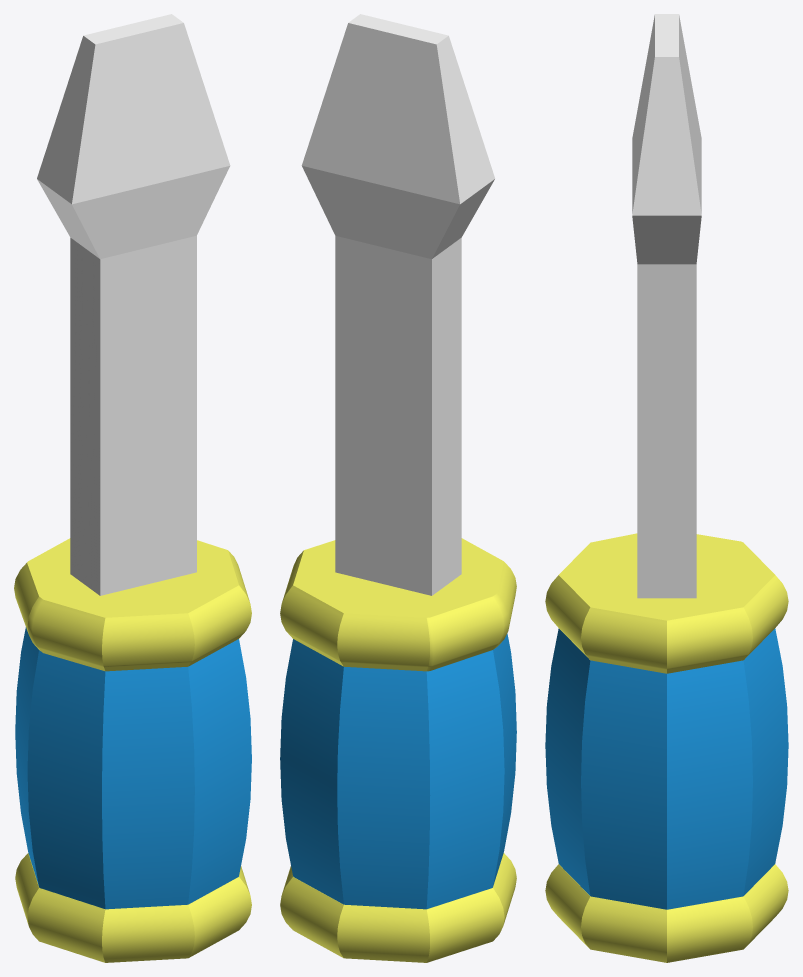
The model's file is luosidao.fbx.
3 views of the same model, side by side, from view 1: azimuth 30°, elevation 25°; view 2: azimuth 150°, elevation 25°; view 3: azimuth 270°, elevation 25° (orthographic).
Parts seen in each view (by area): view 1: pCube1, pSphere1, pSphere2, pSphere3; view 2: pCube1, pSphere1, pSphere2, pSphere3; view 3: pSphere1, pCube1, pSphere2, pSphere3.
Part boxes in pixels (x1,y1,x2,y2): pCube1: (37,14,230,595); pSphere1: (15,627,251,909); pSphere2: (14,538,251,671); pSphere3: (15,853,251,962); pCube1: (301,14,495,595); pSphere1: (280,633,516,909); pSphere2: (280,538,516,671); pSphere3: (280,853,516,962); pSphere1: (545,628,788,909); pCube1: (632,14,701,598); pSphere2: (545,533,788,673); pSphere3: (545,864,788,962).
Size of the model in its own units: 0.5 by 0.5 by 2.
